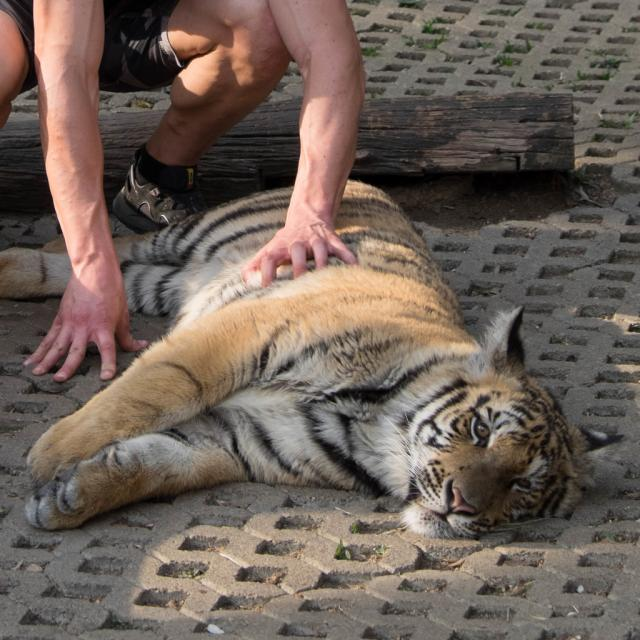Tiger: (0, 175, 625, 540)
